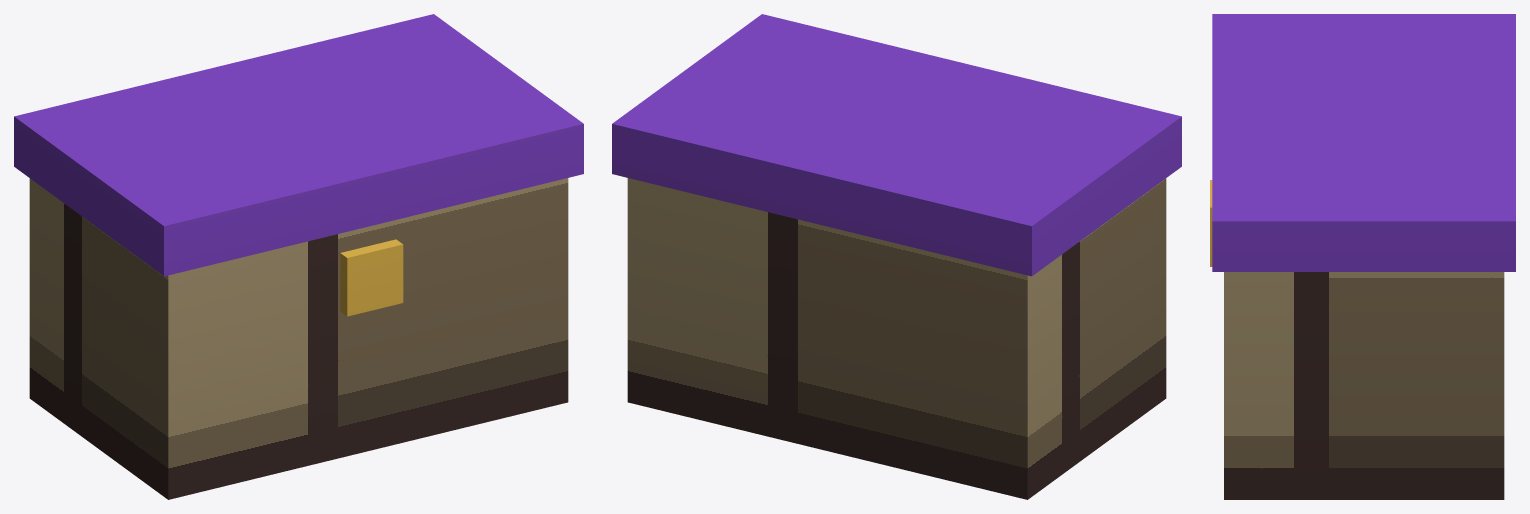
File: reliquary.glb
The picture shows the model from 3 angles, left to right: view 1: azimuth 30°, elevation 25°; view 2: azimuth 150°, elevation 25°; view 3: azimuth 270°, elevation 25°; orthographic projection.
Visible parts, largest first — view 1: reliquary; view 2: reliquary; view 3: reliquary.
Part boxes in pixels (x1,y1,x2,y2): reliquary: (14,14,583,499); reliquary: (612,14,1181,499); reliquary: (1210,14,1515,499).
Bounding box in the file's own units: 1.05 × 0.67 × 0.655.
3 materials, 1 textured.
